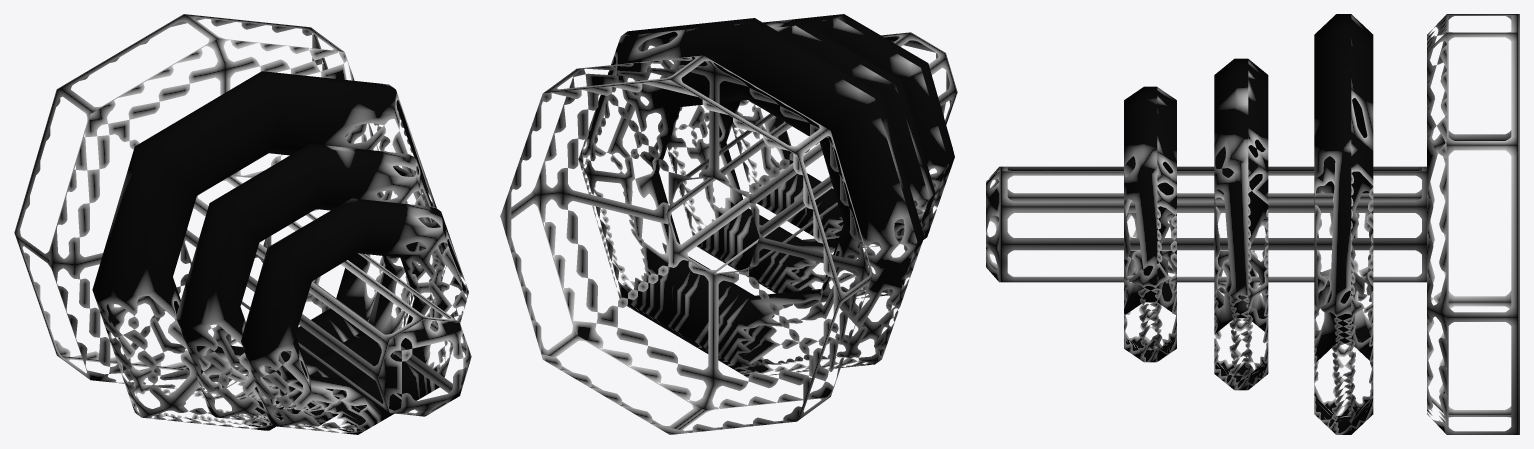
File: RingToss.obj
3 renders of one model, left to right at view 1: azimuth 30°, elevation 25°; view 2: azimuth 150°, elevation 25°; view 3: azimuth 270°, elevation 25°, orthographic. The views are drawn at different scales.
Parts seen in each view (by area): view 1: Cube1; view 2: Cube1; view 3: Cube1.
Part boxes in pixels (<box>): Cube1: <box>14,14,471,434</box>; Cube1: <box>500,14,957,434</box>; Cube1: <box>986,14,1519,434</box>.
Size of the model in its own units: 2 by 2 by 2.53.
1 material, 1 textured.
